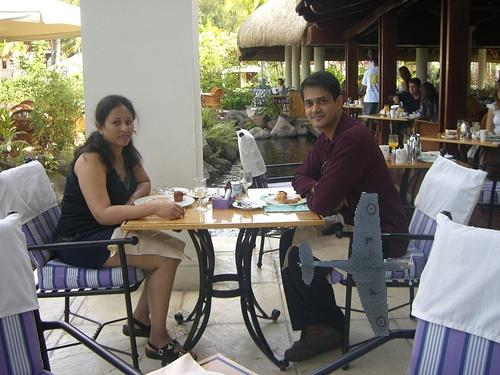tampered: (298, 193, 413, 336)
